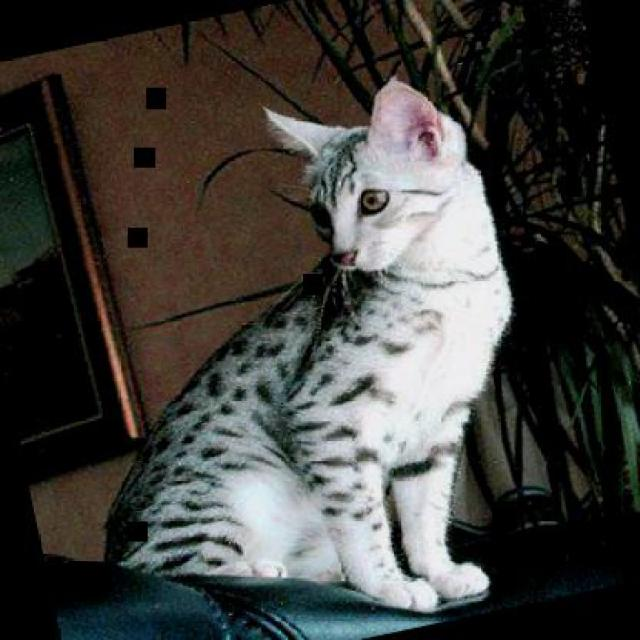cat: (16, 60, 570, 638)
